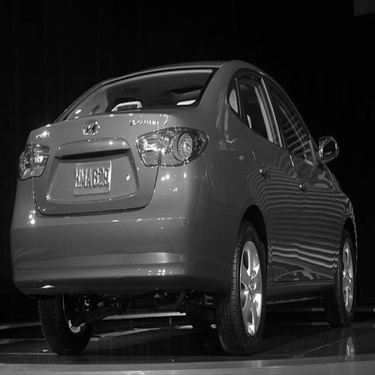car: (7, 60, 361, 364)
